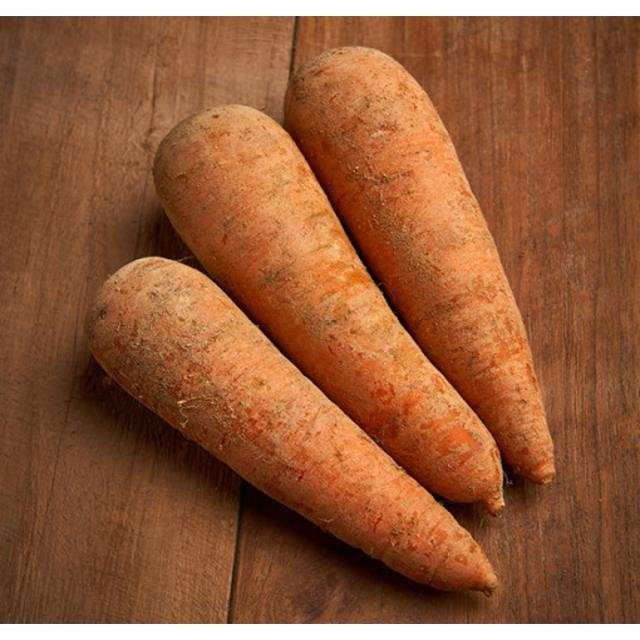carrot: (151, 105, 517, 518), (84, 254, 504, 603), (286, 44, 558, 490)
